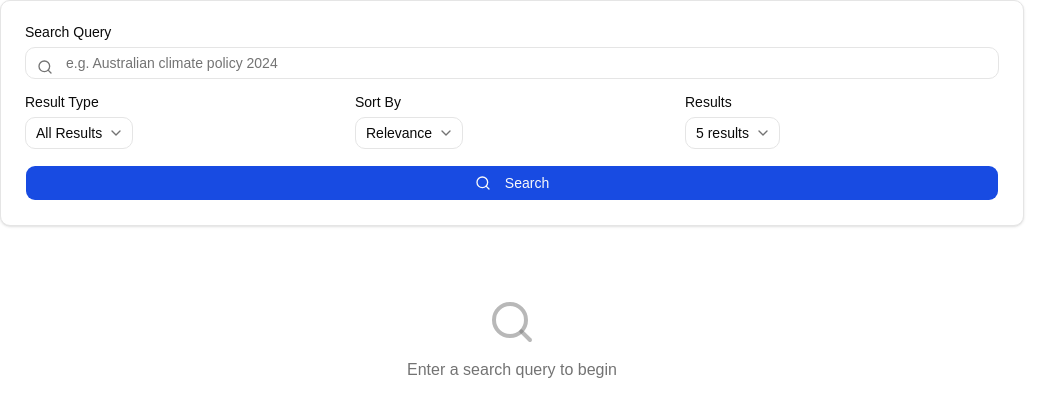
Test: ResearcherSearchPage › shows loading state while searching
The width and height of the screenshot is (1041, 395).
In the field with placeholder "e.g. Australian climate policy 2024": (512, 63) [25,47,999,79], type "test"
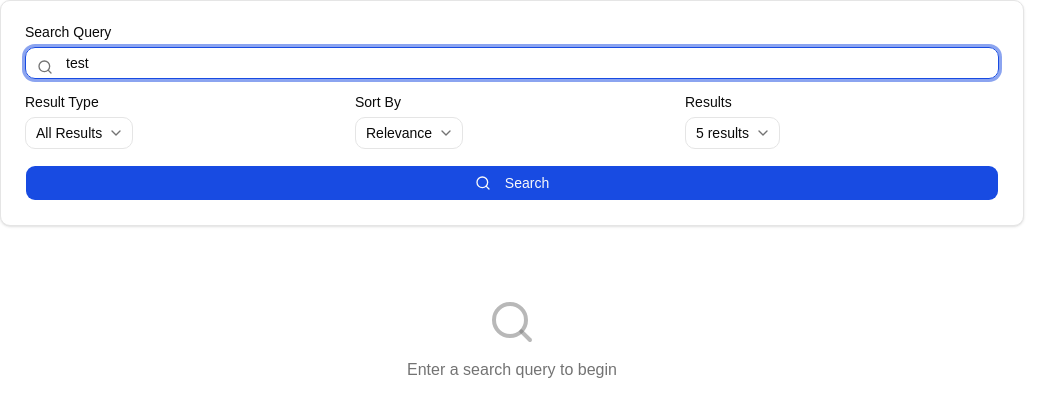
Click the button "Search": (512, 183) [25,165,999,201]
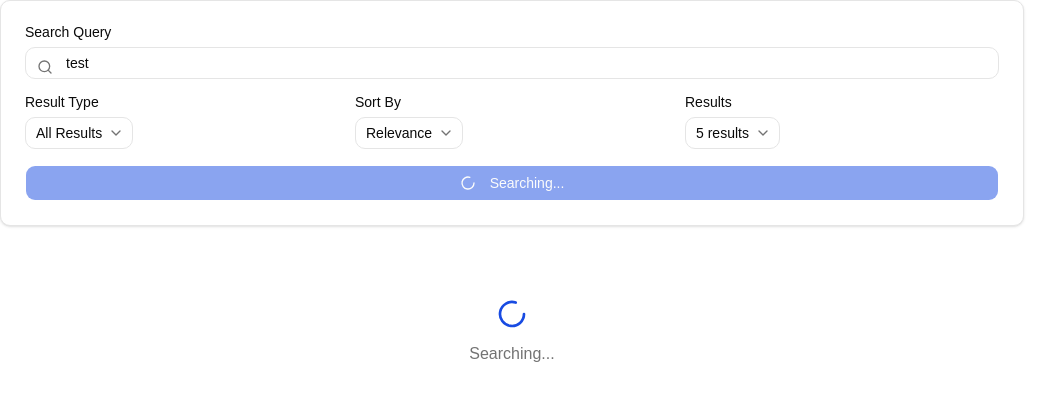
Expected: the button "Searching..." is disabled, [25,165,999,201]
